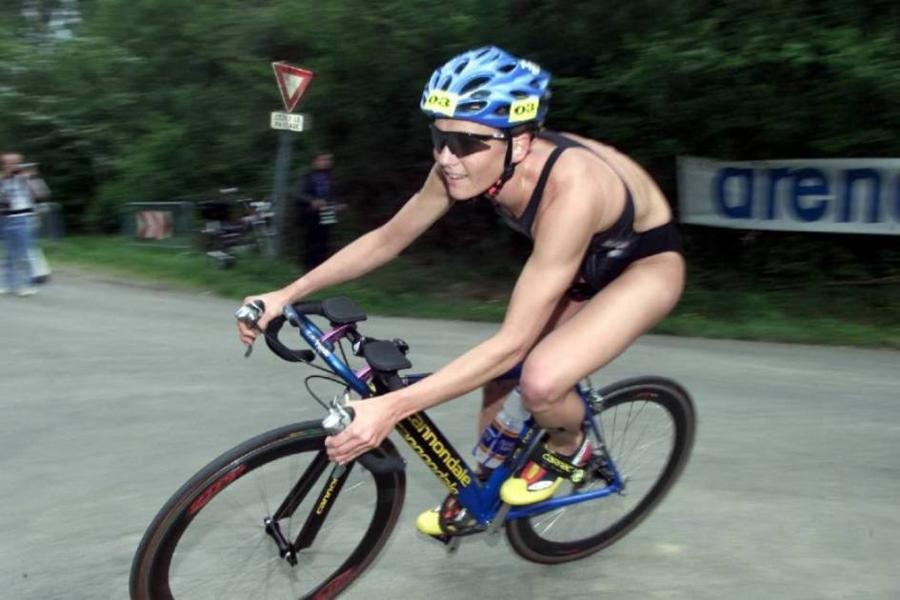person: (242, 47, 691, 545)
